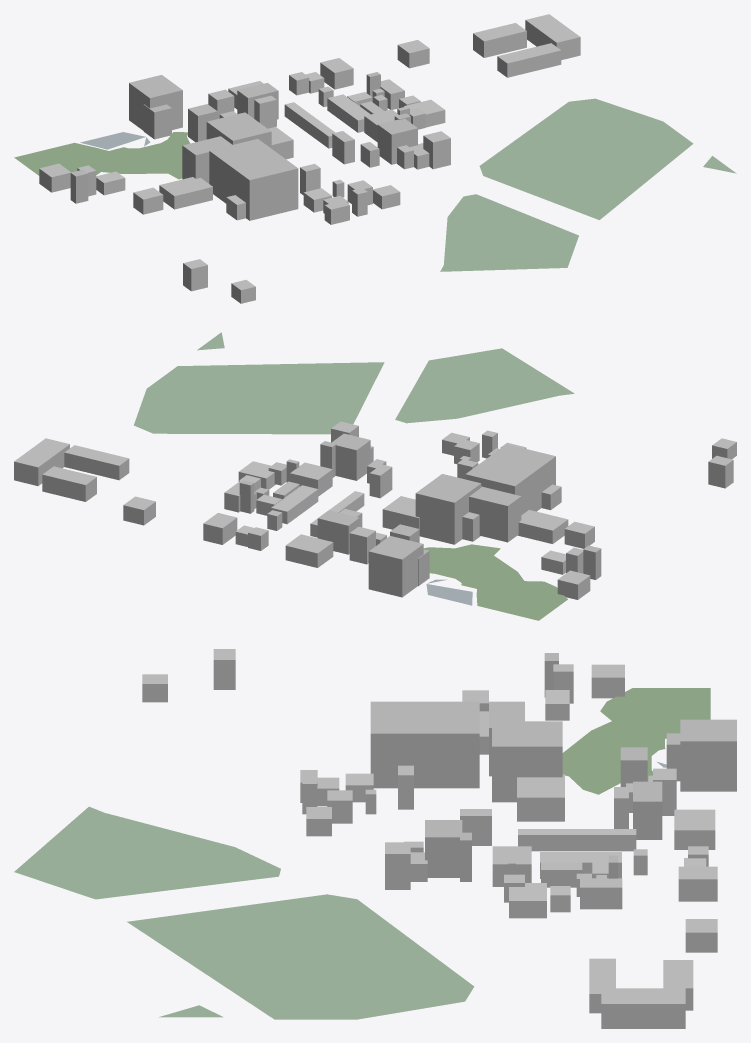
Rendered from 138_85_mid.glb.
3 renders of one model, top to bottom at view 1: azimuth 30°, elevation 25°; view 2: azimuth 150°, elevation 25°; view 3: azimuth 270°, elevation 25°, orthographic. The views are drawn at different scales.
Size of the model in its own units: 515 by 40.82 by 449.
